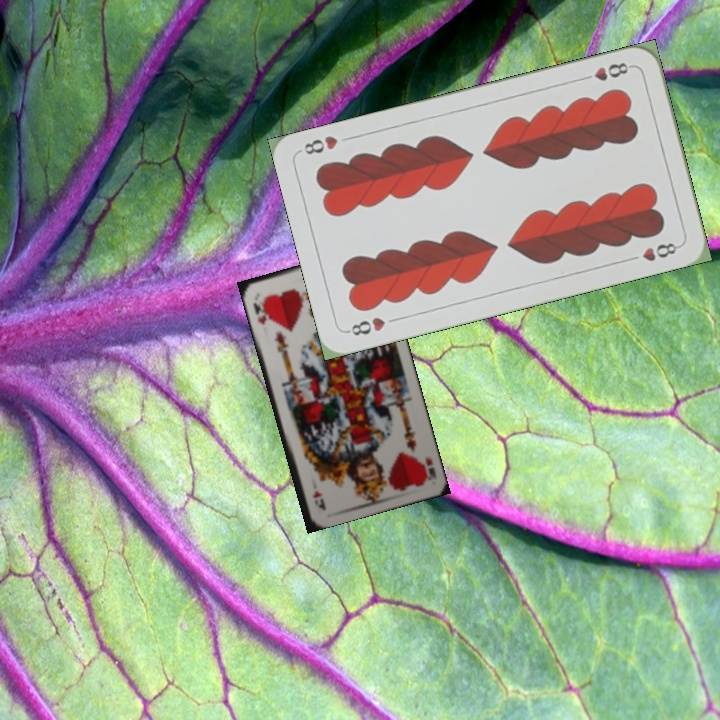H8: (577, 58, 635, 84), (342, 313, 388, 339)
HK: (249, 293, 272, 328), (416, 453, 439, 483)
